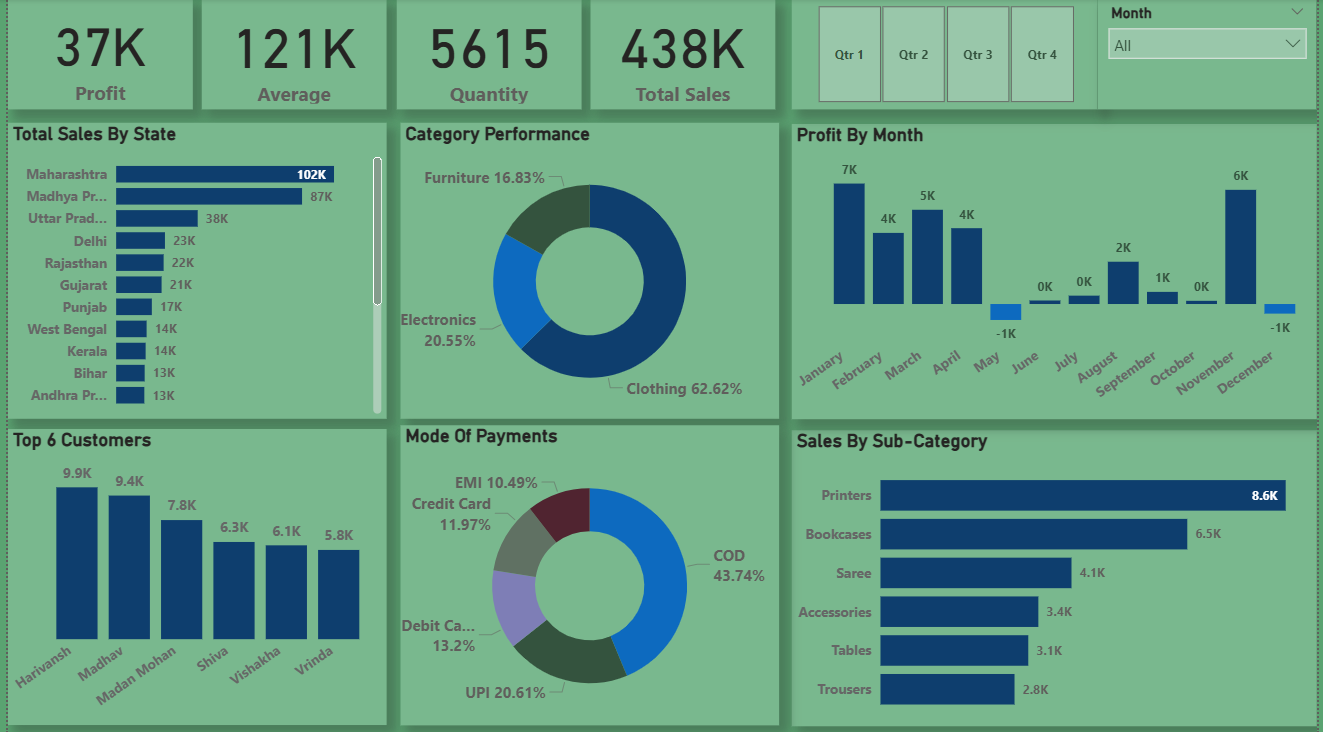

This screenshot's page, from the dashboard's own definition file:
{"tool":"powerbi","page":{"name":"Ecommerce Dashboard","canvas":[1280,720],"ordinal":0},"visuals":[{"type":"card","title":"Prof","fields":{"Values":["Measures Table.Profit"]},"box":[0,0,181,107.6],"z":0},{"type":"card","fields":{"Values":["Measures Table.Average"]},"box":[189.5,0,181,107.6],"z":1000},{"type":"card","fields":{"Values":["Measures Table.Quantity"]},"box":[380.3,0,181,107.6],"z":2000},{"type":"card","fields":{"Values":["Measures Table.Total Sales"]},"box":[569.8,0,181,107.6],"z":3000},{"type":"clusteredBarChart","title":"Total Sales By State","fields":{"Category":["Orders.State"],"Y":["Sum(Details.TotalSales)"]},"box":[0,121.1,370.5,289.8],"z":4000},{"type":"clusteredBarChart","title":"Sales By Sub-Category","fields":{"Category":["Details.Sub-Category"],"Y":["Sum(Details.Profit)"]},"box":[767.1,421.3,513.2,289.5],"z":5000},{"type":"donutChart","title":"Category Performance","fields":{"Category":["Details.Category"],"Y":["Sum(Details.Quantity)"]},"box":[384,121.1,370.5,289.8],"z":6000},{"type":"columnChart","title":"Top 6 Customers","fields":{"Y":["Sum(Details.TotalSales)"],"Category":["Orders.CustomerName"]},"box":[0,420.7,370.5,289.8],"z":7000},{"type":"pieChart","title":"Mode Of Payments","fields":{"Category":["Details.PaymentMode"],"Y":["Sum(Details.Quantity)"]},"box":[384.2,417.2,370.5,293.7],"z":8000},{"type":"lineStackedColumnComboChart","title":"Profit By Month","fields":{"Y":["Measures Table.Profit"],"Category":["Orders.Order Date.Variation.Date Hierarchy.Month"]},"box":[766.7,122.3,513.6,288.6],"z":9000},{"type":"slicer","fields":{"Values":["Orders.Order Date.Variation.Date Hierarchy.Quarter"]},"box":[766.7,0,299.6,107.6],"z":10000},{"type":"slicer","fields":{"Values":["Orders.Order Date.Variation.Date Hierarchy.Month"]},"box":[1066.3,0,214,107.6],"z":11000}]}

Visuals, with their boxes in screenshot pixels (x1, y1, x2, y2), scaled from the page's 1280x720 canvas onto the 1323x732 screenshot:
"Prof" card: rect(0, 0, 187, 109)
card - Measures Table.Average: rect(196, 0, 383, 109)
card - Measures Table.Quantity: rect(393, 0, 580, 109)
card - Measures Table.Total Sales: rect(589, 0, 776, 109)
"Total Sales By State" clusteredBarChart: rect(0, 123, 383, 418)
"Sales By Sub-Category" clusteredBarChart: rect(793, 428, 1322, 723)
"Category Performance" donutChart: rect(397, 123, 780, 418)
"Top 6 Customers" columnChart: rect(0, 428, 383, 722)
"Mode Of Payments" pieChart: rect(397, 424, 780, 723)
"Profit By Month" lineStackedColumnComboChart: rect(792, 124, 1322, 418)
slicer - Orders.Order Date.Variation.Date Hierarchy.Quarter: rect(792, 0, 1102, 109)
slicer - Orders.Order Date.Variation.Date Hierarchy.Month: rect(1102, 0, 1322, 109)
